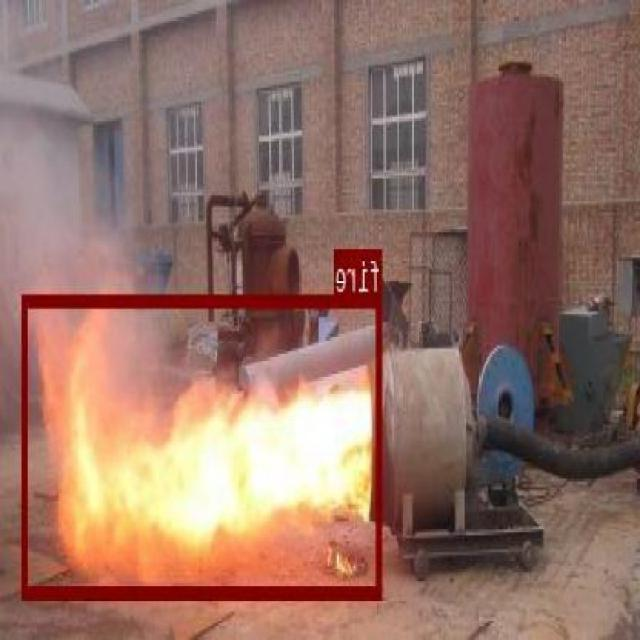Fire: (24, 294, 384, 595)
